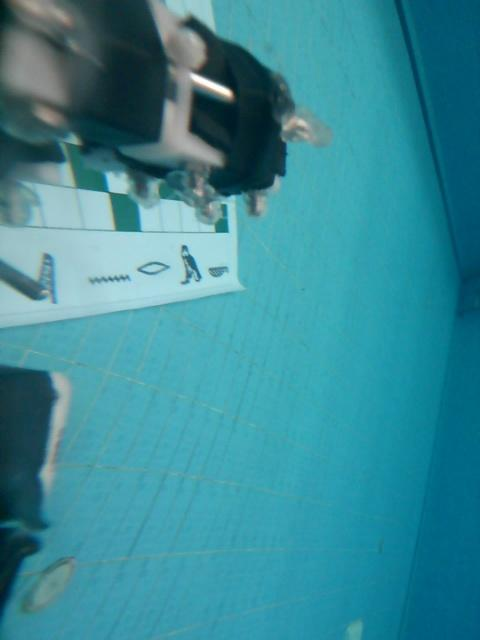Basket: (205, 261, 233, 280)
Mouth: (138, 259, 171, 275)
Owl: (177, 245, 202, 287)
Reed: (36, 245, 61, 314)
Water: (86, 273, 130, 285)
